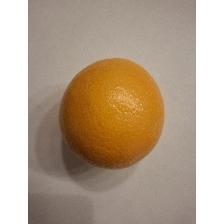Orange: (56, 56, 168, 176)
